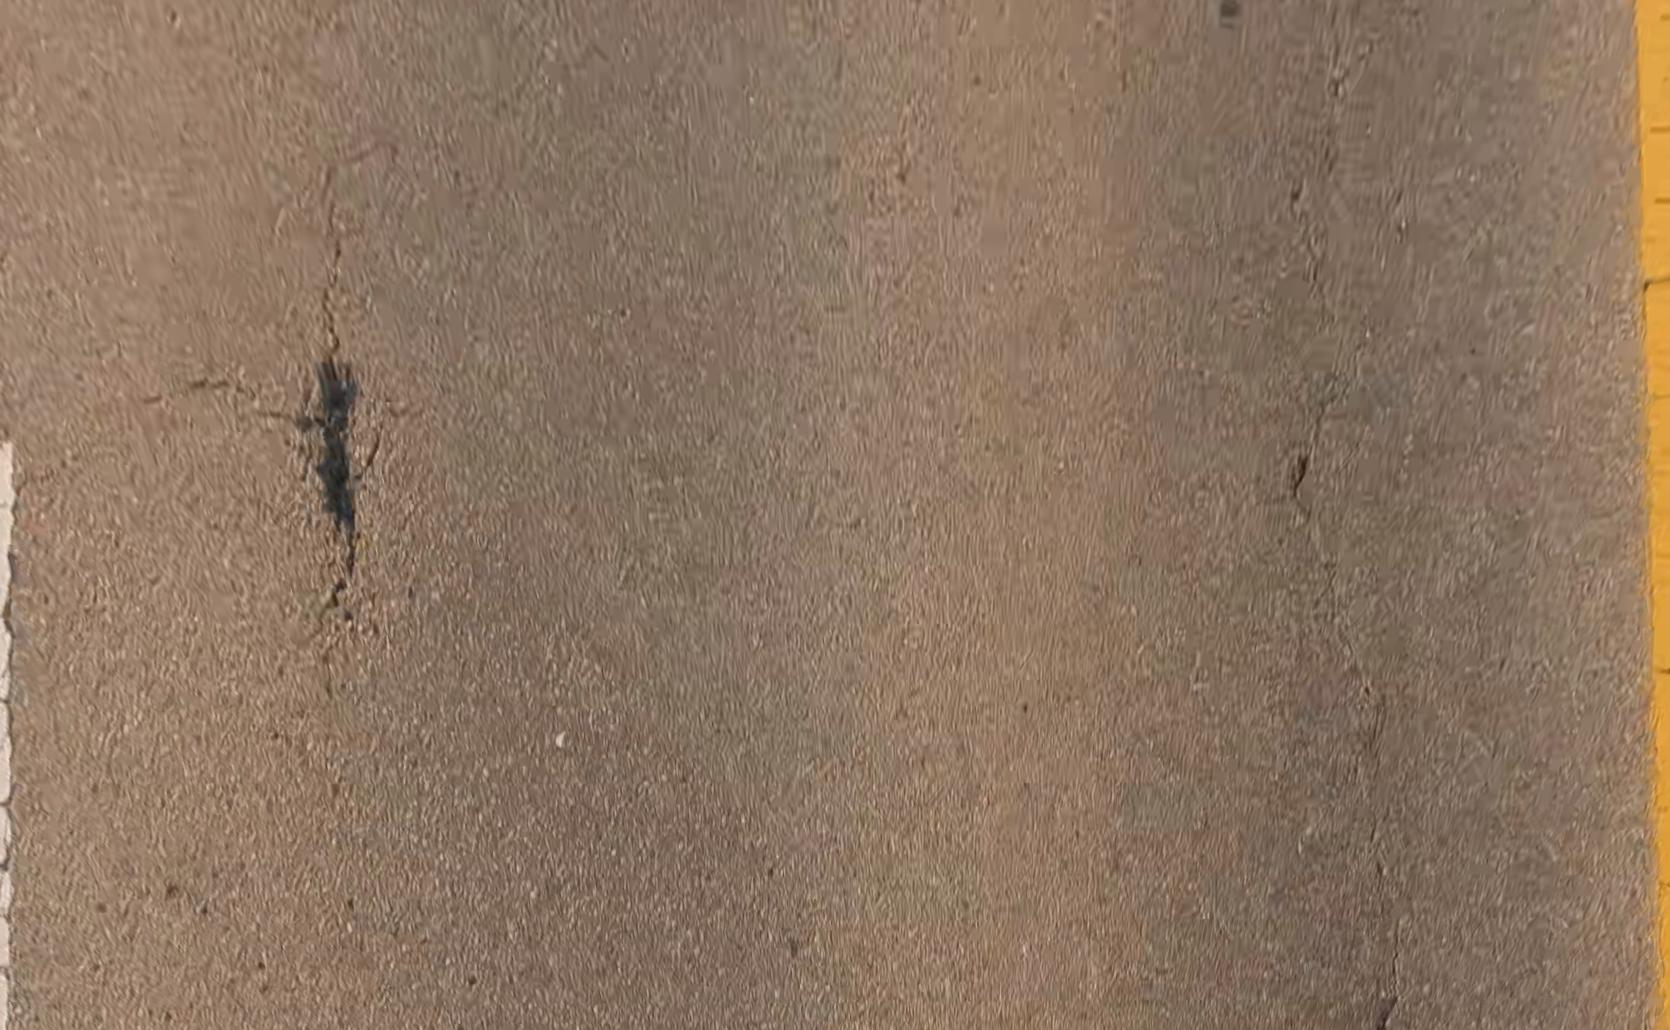pothole: (309, 353, 360, 533)
